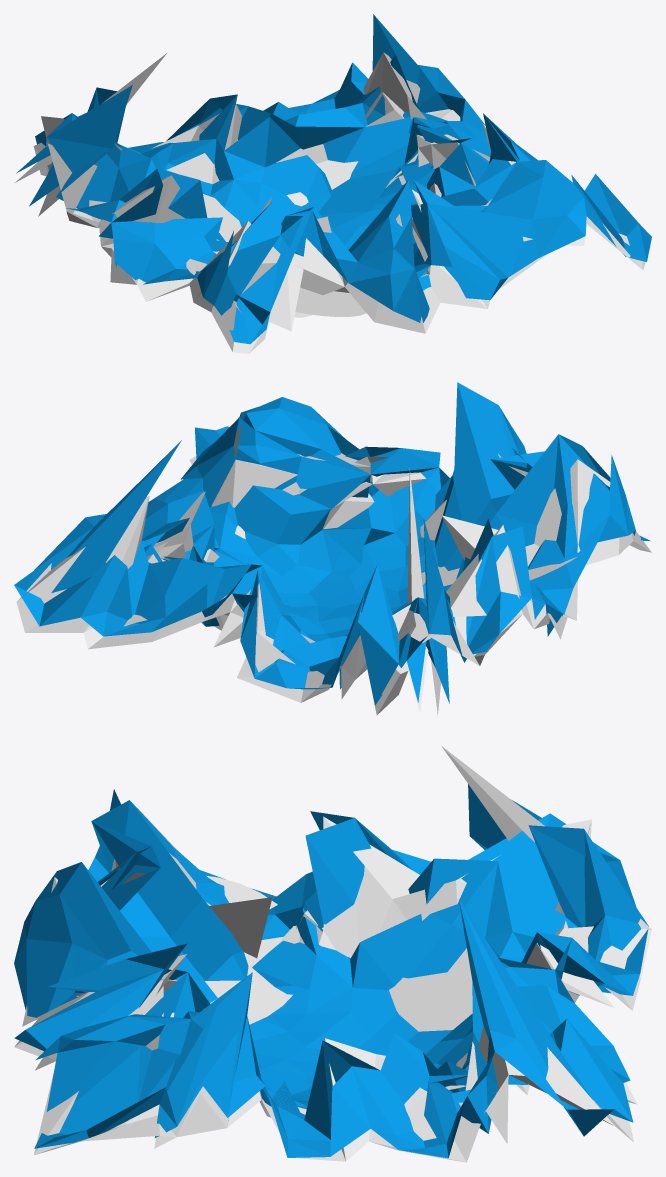
The model's file is icemap.fbx.
3 views of the same model, one above another, from view 1: azimuth 30°, elevation 25°; view 2: azimuth 150°, elevation 25°; view 3: azimuth 270°, elevation 25° (orthographic). The views are drawn at different scales.
Parts seen in each view (by area): view 1: Plane, Plane.001, Cylinder.001, Cylinder; view 2: Plane, Plane.001, Cylinder.001; view 3: Plane, Plane.001, Cylinder, Cylinder.001.
Part boxes in pixels (<box>): Plane: <box>16,14,651,344</box>; Plane.001: <box>15,52,650,353</box>; Cylinder.001: <box>186,259,366,316</box>; Cylinder: <box>203,194,311,317</box>; Plane: <box>14,382,650,705</box>; Plane.001: <box>16,427,651,715</box>; Cylinder.001: <box>421,556,577,586</box>; Plane: <box>14,784,648,1158</box>; Plane.001: <box>14,746,651,1162</box>; Cylinder: <box>389,948,472,1031</box>; Cylinder.001: <box>205,875,292,1024</box>.
Bounding box in the file's own units: 4053 × 2162 × 4141.
